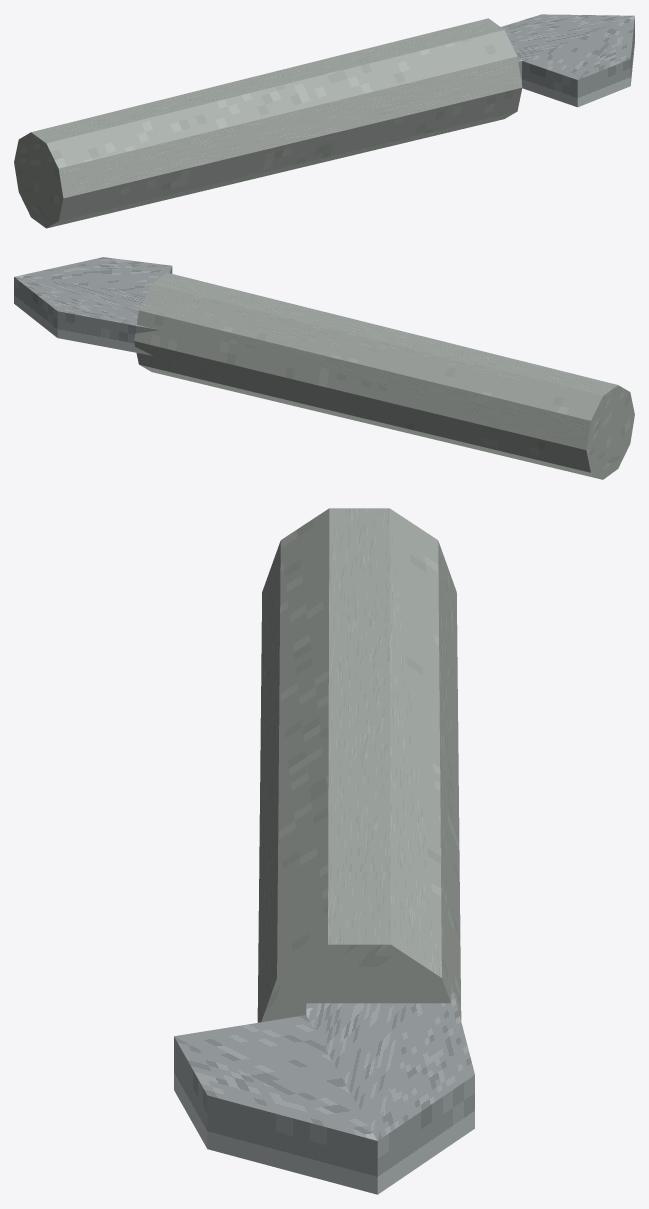
File: utility_knife_folding.glb
The picture shows the model from 3 angles, top to bottom: view 1: azimuth 30°, elevation 25°; view 2: azimuth 150°, elevation 25°; view 3: azimuth 270°, elevation 25°; orthographic projection. The views are drawn at different scales.
Visible parts, largest first — view 1: block_tool handle, block_steel working end; view 2: block_tool handle, block_steel working end; view 3: block_tool handle, block_steel working end.
Part boxes in pixels (x1,y1,x2,y2): block_tool handle: (14,18,522,228); block_steel working end: (501,14,634,107); block_tool handle: (134,272,634,479); block_steel working end: (14,257,172,355); block_tool handle: (257,508,461,1022); block_steel working end: (174,981,474,1194).
Size of the model in its own units: 0.1 by 0.0142 by 0.022.
Materials: 1 (1 with a texture image).
